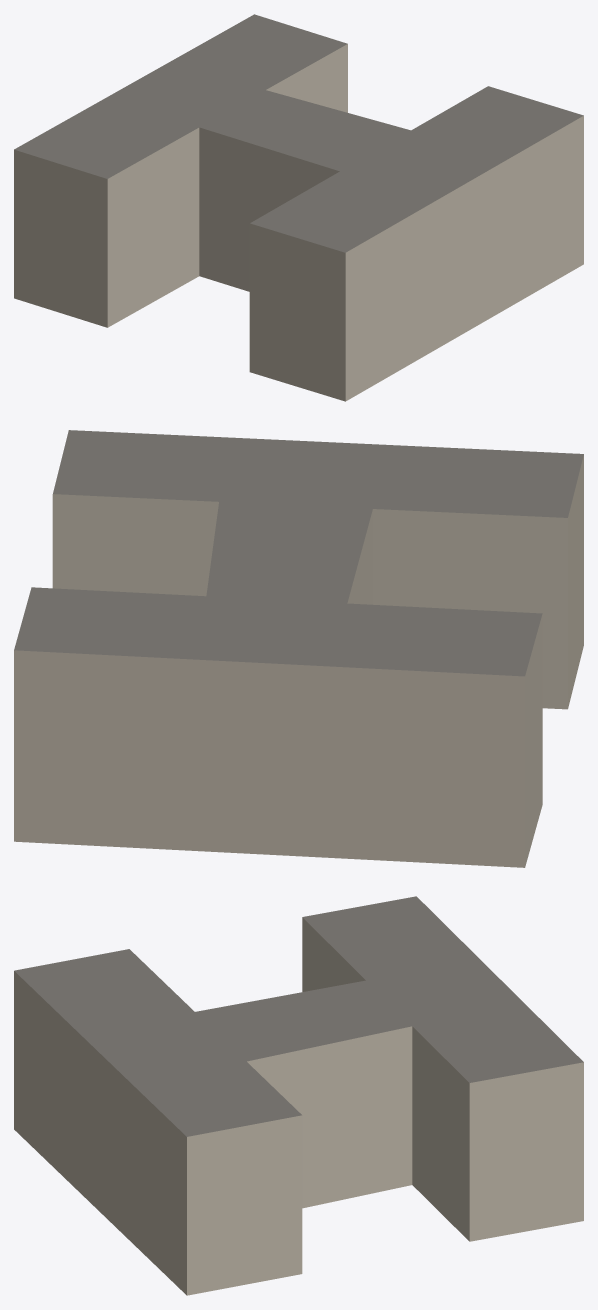
3 views of the same model, one above another, from view 1: azimuth 30°, elevation 25°; view 2: azimuth 150°, elevation 25°; view 3: azimuth 270°, elevation 25° (orthographic). The views are drawn at different scales.
Visible parts, largest first — view 1: HP-w292718769; view 2: HP-w292718769; view 3: HP-w292718769.
Boxes of the visible parts, box(x1,y1,x2,y2) form: HP-w292718769: box(14, 14, 583, 401); HP-w292718769: box(14, 430, 583, 867); HP-w292718769: box(14, 896, 583, 1295).
Bounding box in the file's own units: 58.52 × 18 × 58.57.
